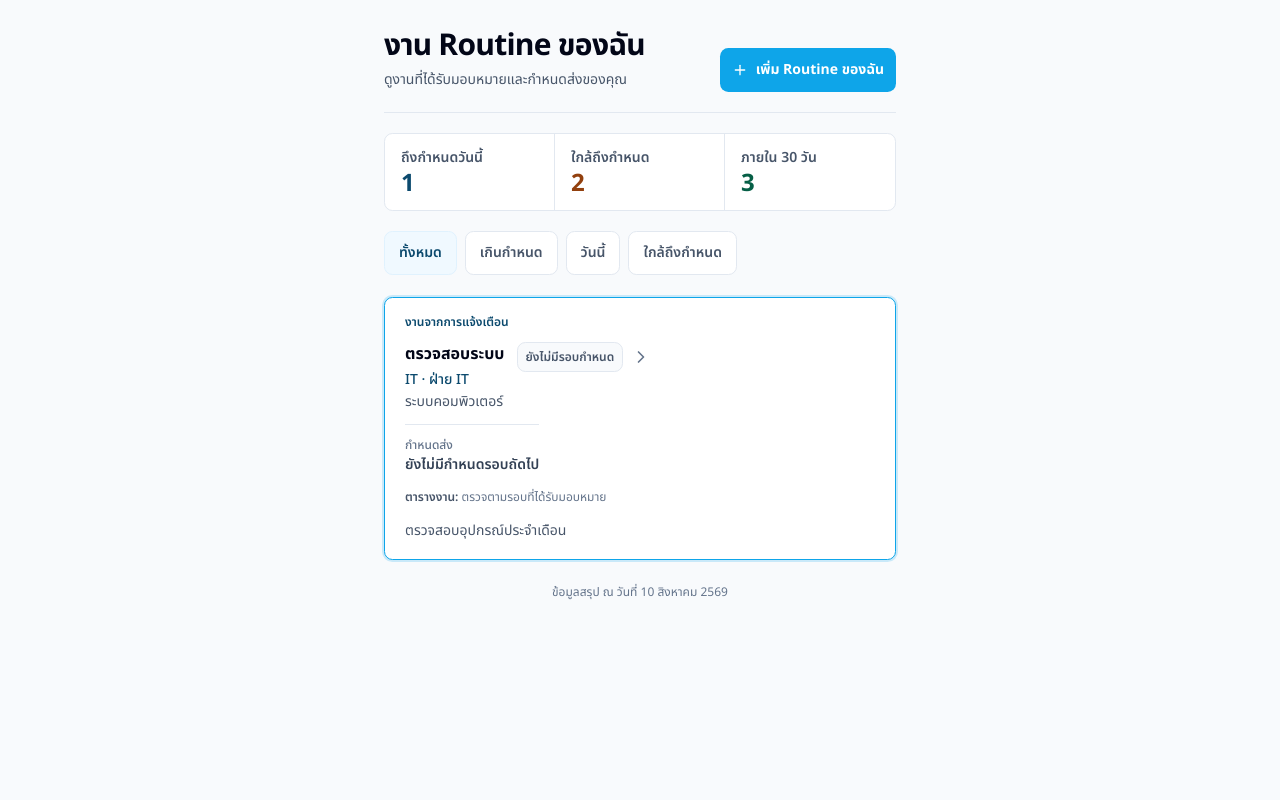
Test: LiffRoutineApp › prefers the deep-link occurrence for the focused task
Expected: the heading "ตรวจสอบระบบ" is shown, [405,342,504,366]
Click the button with aria-label "เปิดรายละเอียดงาน ตรวจสอบระบบ". click: {"x": 457, "y": 322}
box: [385,298,895,559]
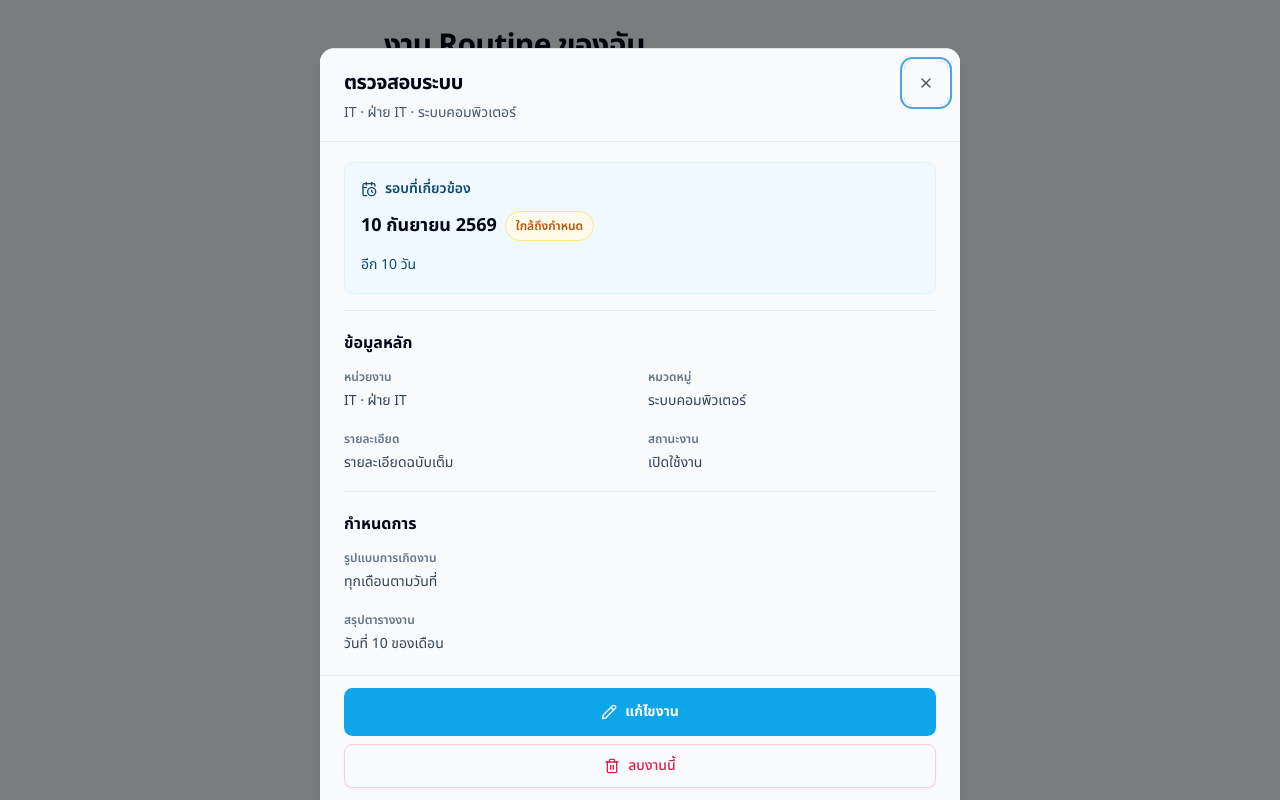
Now the text "10 กันยายน 2569" is shown, box [361,212,497,240]
Now the text "อีก 10 วัน" is shown, box [361,254,416,275]
